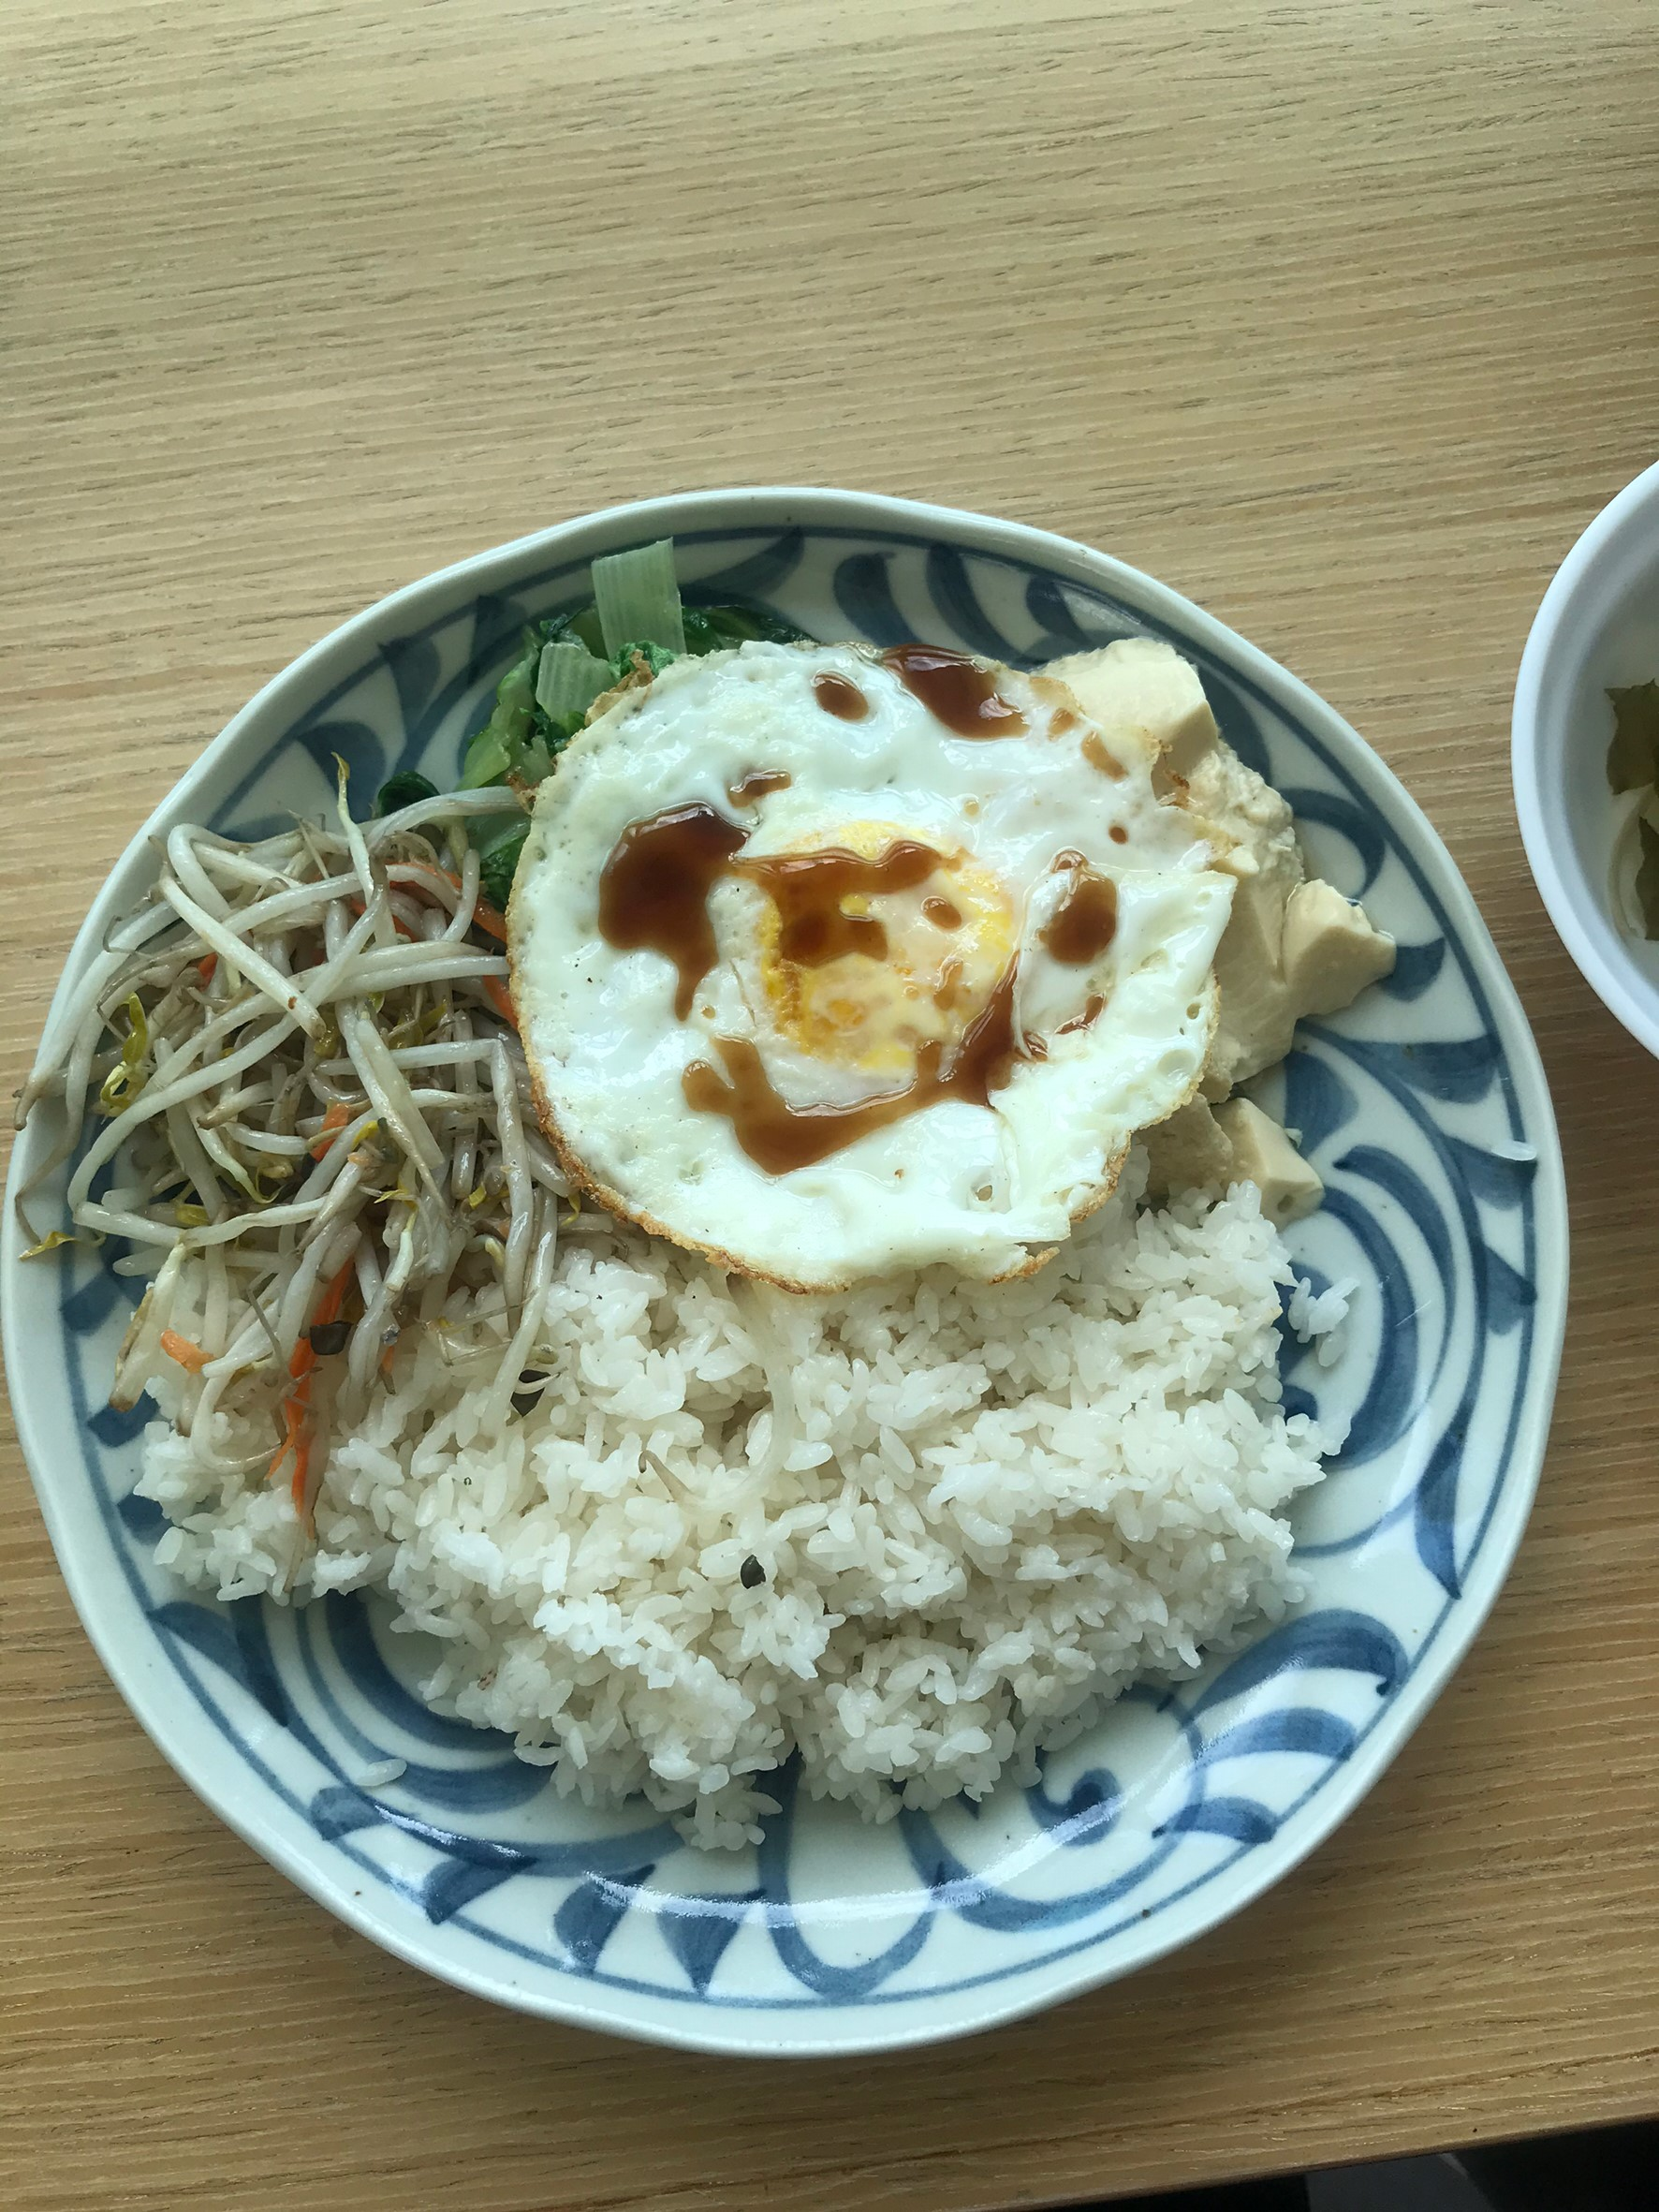fried_eggs: (558, 664, 1180, 1239)
mung_bean_sprouts: (139, 905, 491, 1274)
rice: (535, 1297, 1195, 1715)
